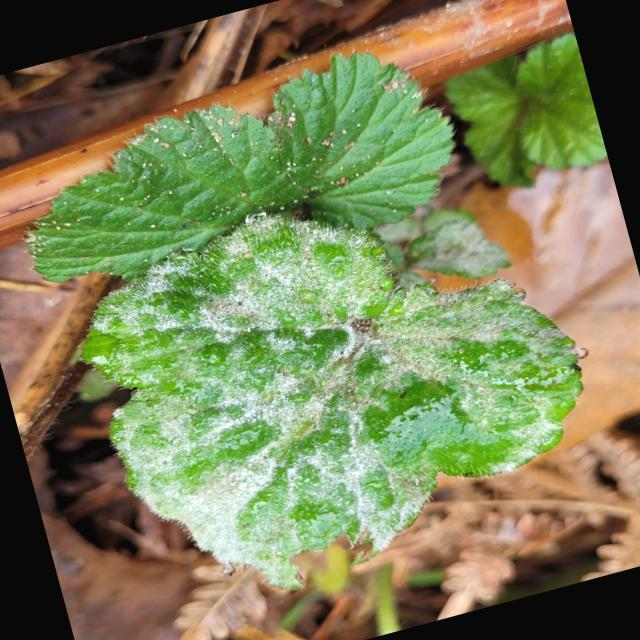powdery_mildew: (84, 216, 581, 588)
